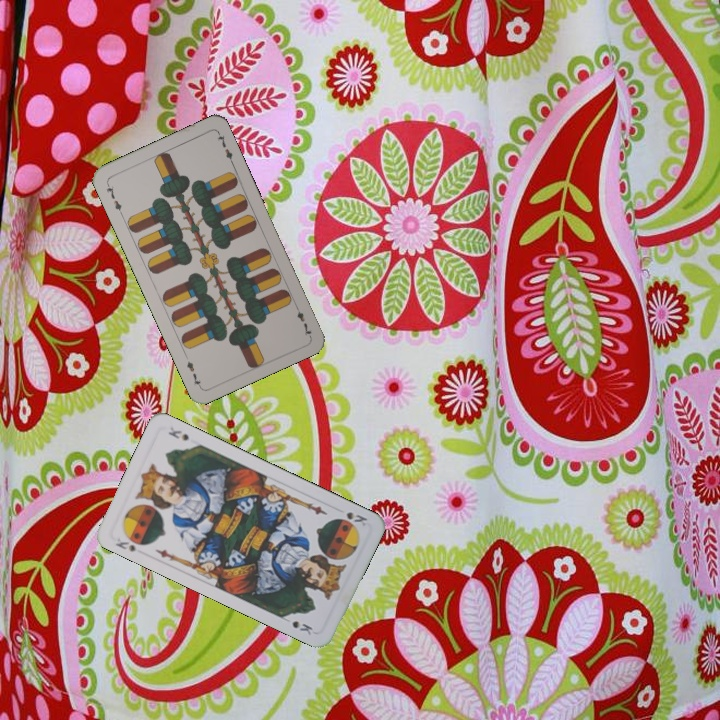E7: (102, 179, 125, 218), (291, 300, 314, 339)
SK: (334, 508, 370, 529), (111, 534, 138, 555)
